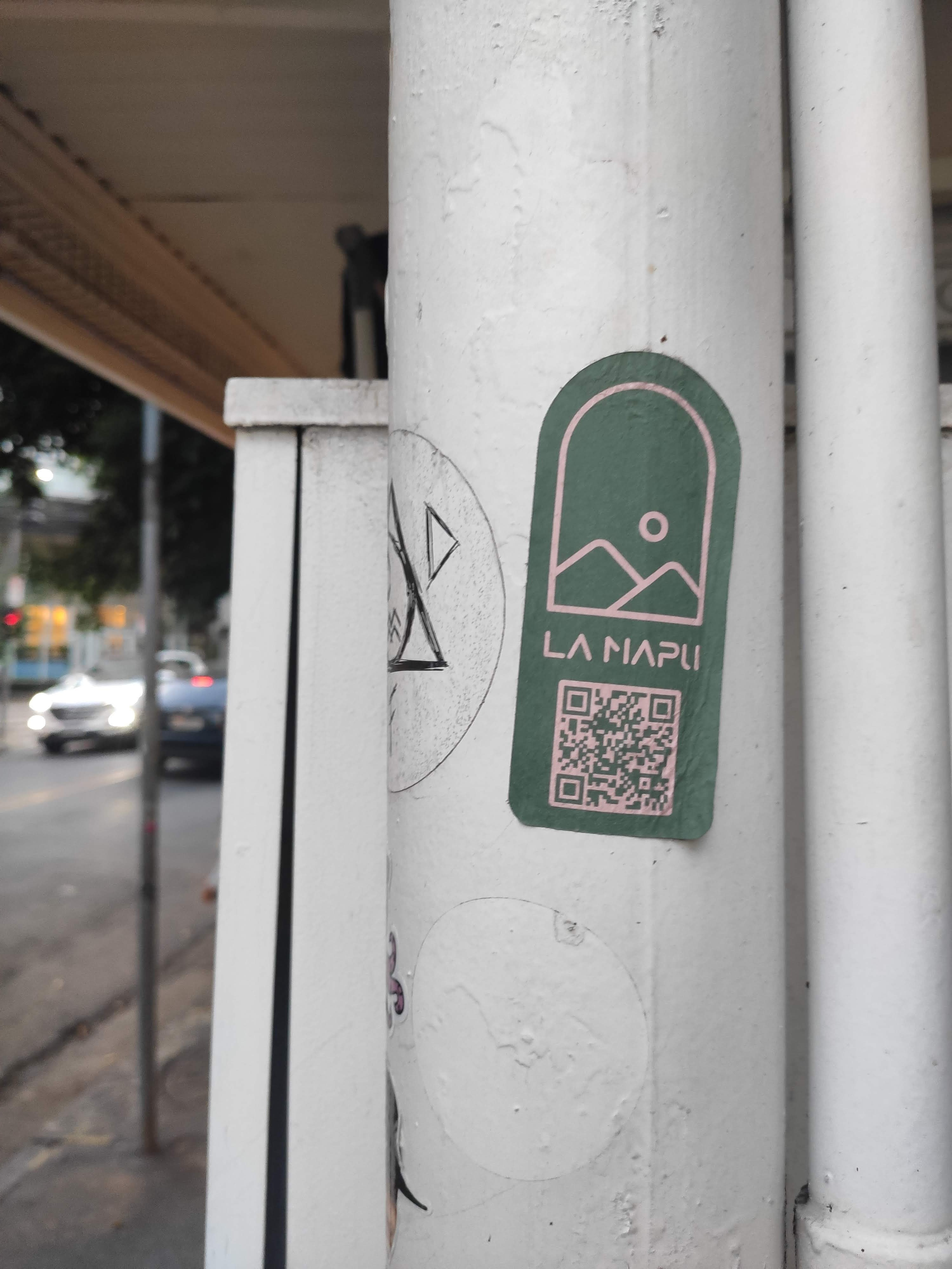QR-CODE: (554, 685, 676, 811)
